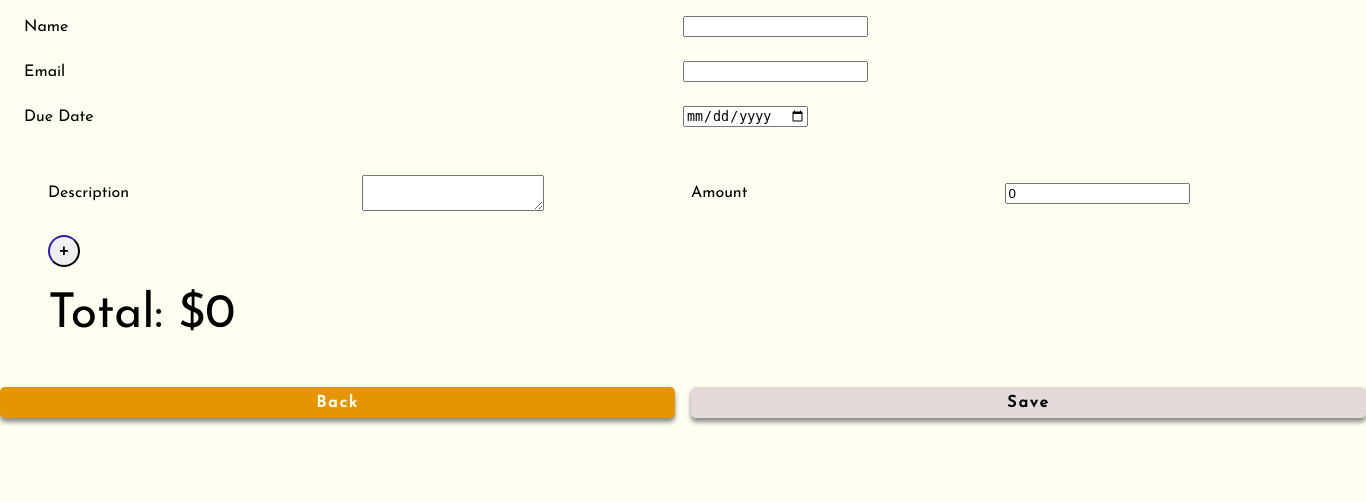
Test: <CreateInvoicePage/> › page finished loading › CreateInvoiceForm › should create placeholder InvoiceItem
The image size is (1366, 502).
Click the button "+". click: (64,251)
box: x1=48 y1=235 x2=80 y2=267
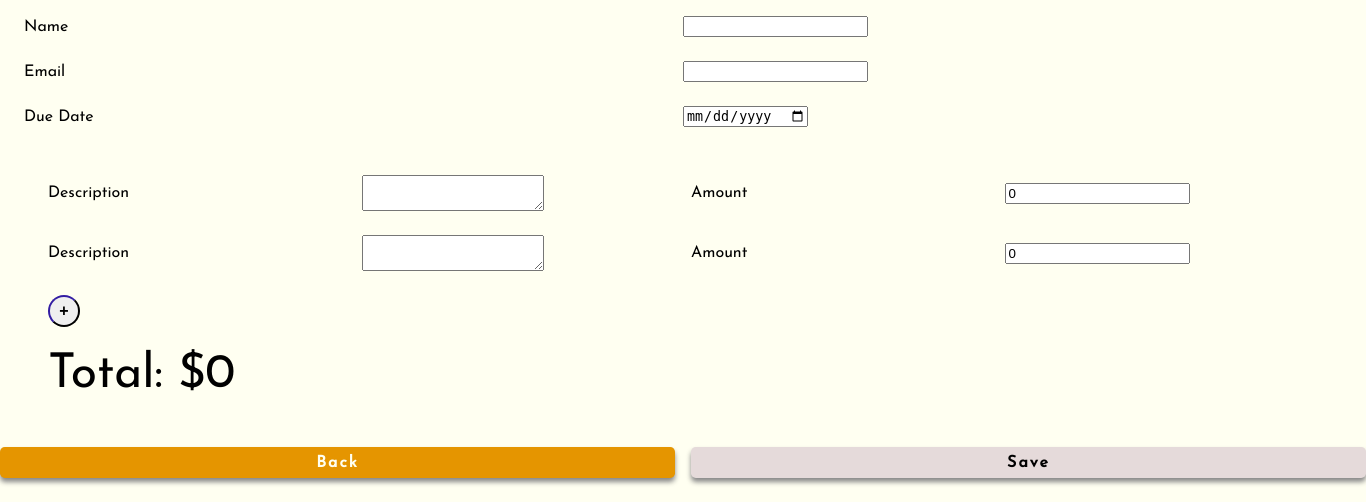
Expected: the 2nd text box labelled "Description" is empty, x1=362 y1=235 x2=544 y2=271
Result: the number of elements with test id "invoice-item-overview" is 2 at x1=48 y1=175 x2=1318 y2=211; x1=48 y1=235 x2=1318 y2=271
Result: the 2nd number field labelled "Amount" holds "0" at x1=1004 y1=243 x2=1190 y2=264
